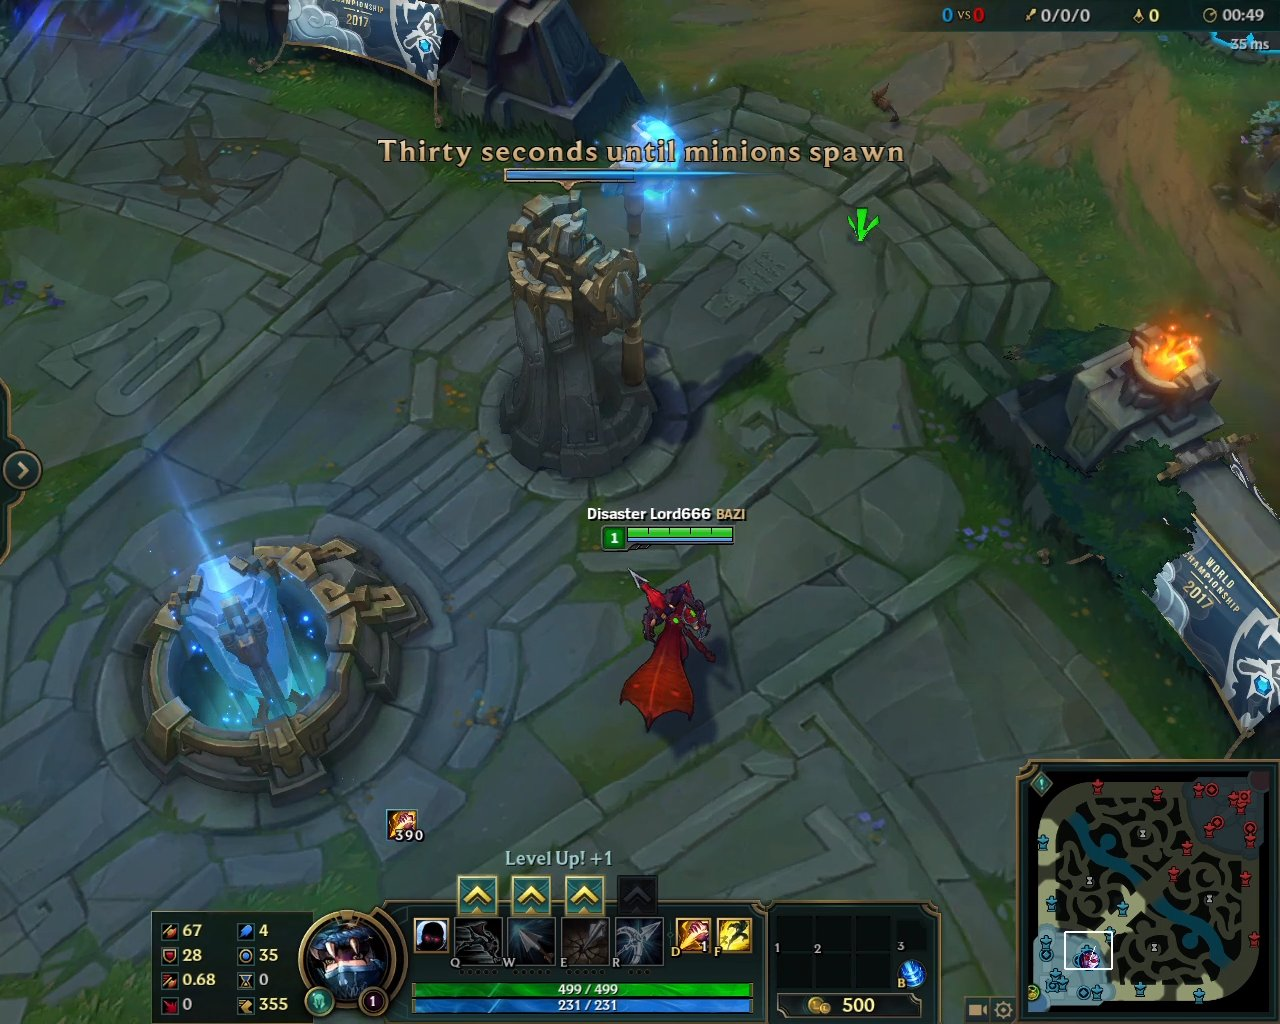Vayne: (608, 563, 726, 739)
